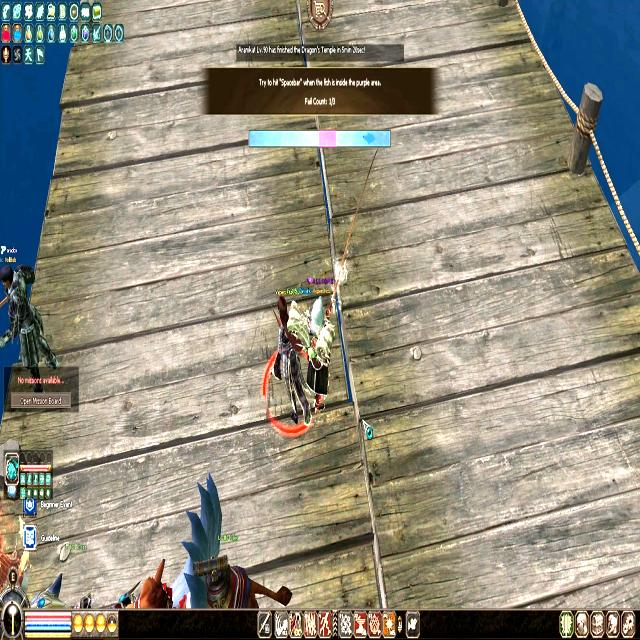fishes: (363, 131, 374, 145)
